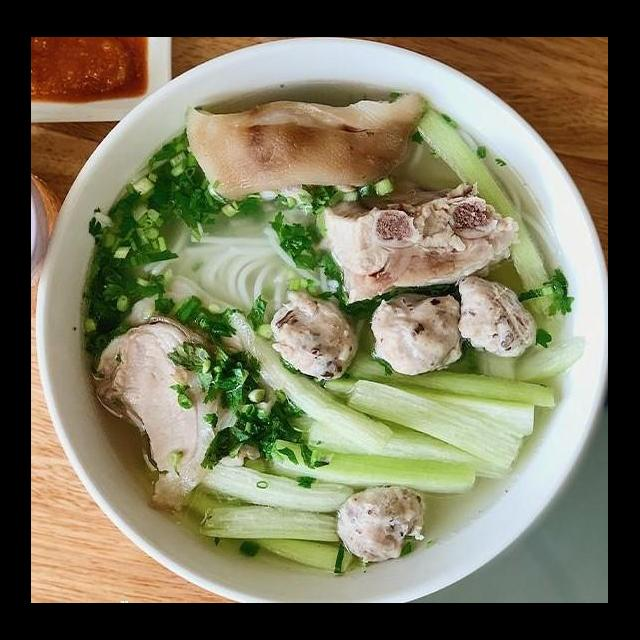bun: (170, 212, 338, 310)
bun moc: (61, 74, 608, 603)
thit heo: (84, 312, 238, 513), (312, 178, 524, 312)
vien moc: (266, 284, 364, 383), (368, 286, 471, 380), (330, 478, 438, 565), (452, 272, 550, 365)
